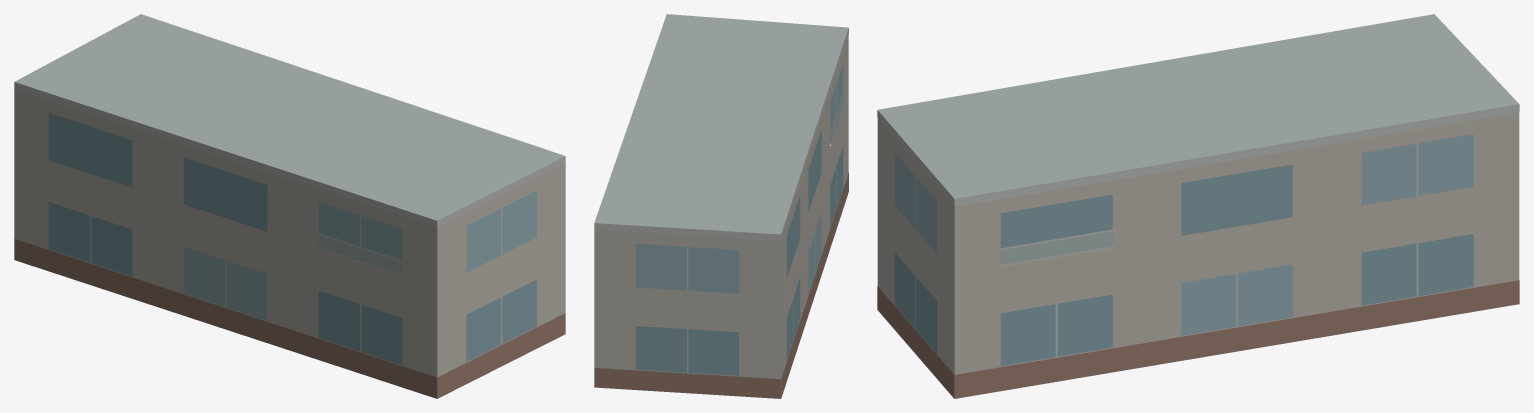
Rendered from survey-upis-32886627.glb.
3 views of the same model, side by side, from view 1: azimuth 30°, elevation 25°; view 2: azimuth 150°, elevation 25°; view 3: azimuth 270°, elevation 25° (orthographic). The views are drawn at different scales.
Visible parts, largest first — view 1: survey-upis-32886627.tmp; view 2: survey-upis-32886627.tmp; view 3: survey-upis-32886627.tmp.
Boxes of the visible parts, x1,y1,x2,y2 form: survey-upis-32886627.tmp: (14, 14, 565, 398); survey-upis-32886627.tmp: (594, 14, 848, 398); survey-upis-32886627.tmp: (877, 14, 1519, 398).
Bounding box in the file's own units: 12.11 × 6.1 × 17.76.
